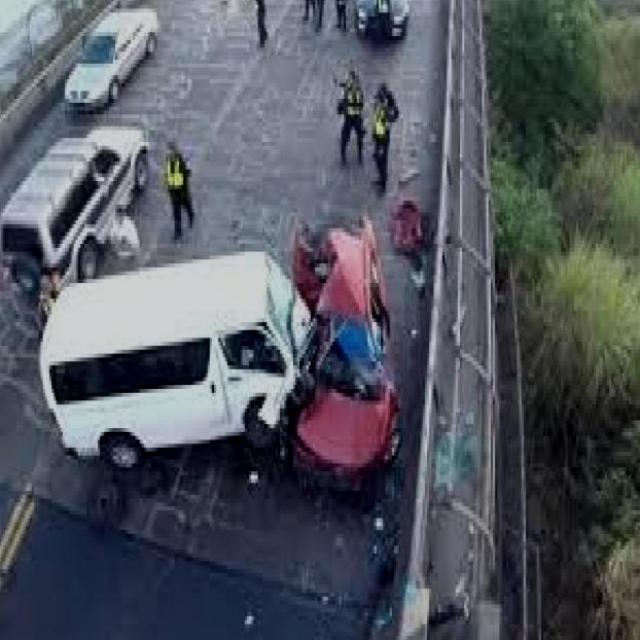accident: (220, 208, 411, 489)
